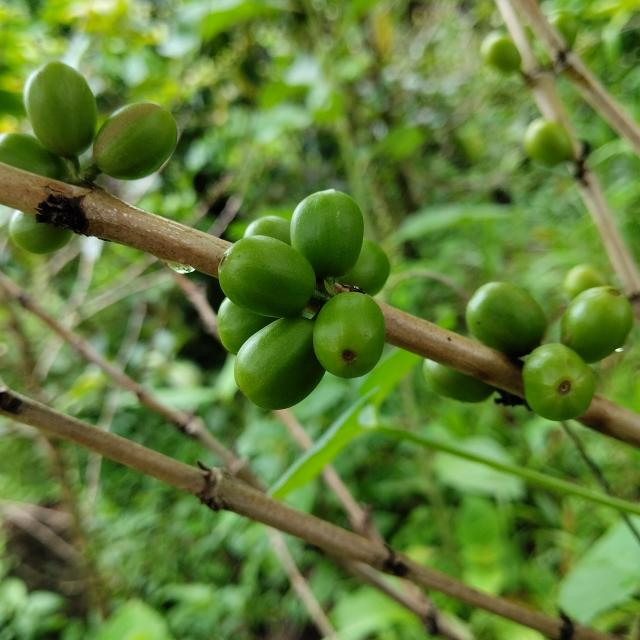green: (234, 316, 325, 410), (218, 235, 316, 318), (22, 61, 96, 158), (290, 189, 364, 279), (92, 102, 177, 179), (313, 292, 385, 379), (466, 282, 548, 357), (523, 344, 596, 422), (562, 286, 635, 363), (217, 298, 278, 355), (423, 359, 496, 403), (336, 238, 391, 296), (0, 132, 67, 179), (8, 210, 72, 254), (243, 215, 291, 245)
